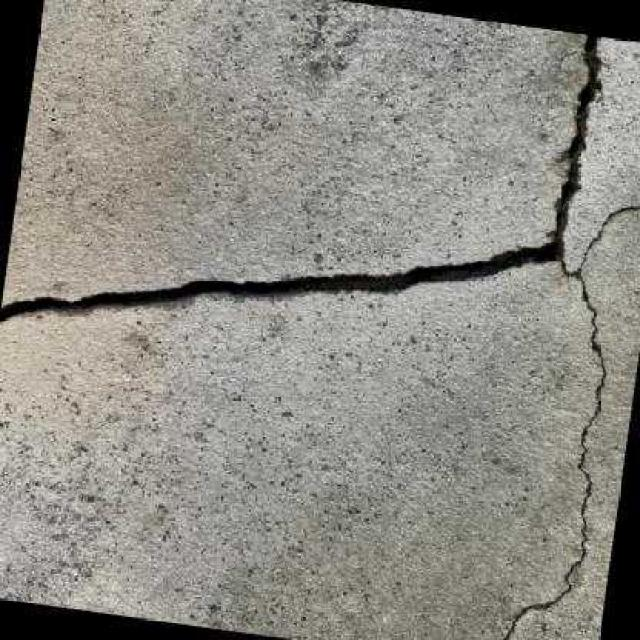D00: (0, 33, 609, 330), (491, 197, 640, 640)
